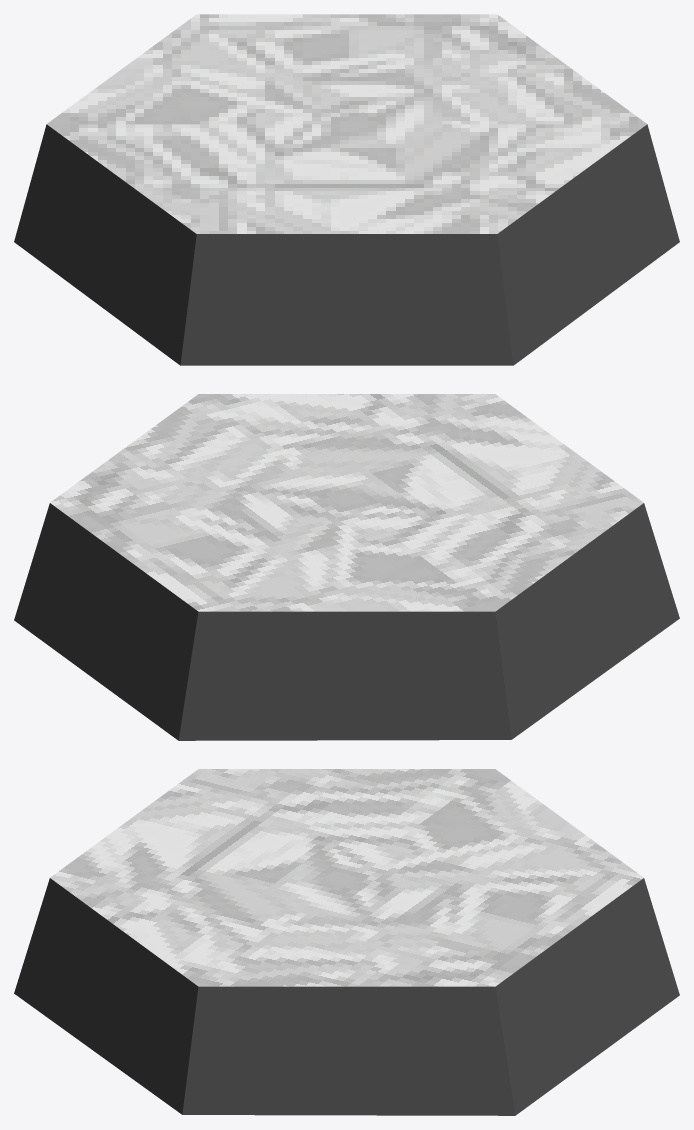
The model's file is world_tile.fbx.
3 views of the same model, one above another, from view 1: azimuth 30°, elevation 25°; view 2: azimuth 150°, elevation 25°; view 3: azimuth 270°, elevation 25° (orthographic).
Parts seen in each view (by area): view 1: cylinder; view 2: cylinder; view 3: cylinder.
Part boxes in pixels (box(x1,y1,x2,y2)): cylinder: box(14, 14, 679, 365); cylinder: box(14, 394, 679, 740); cylinder: box(14, 769, 679, 1115).
Bounding box in the file's own units: 112 × 25 × 129.
1 material, 1 textured.
